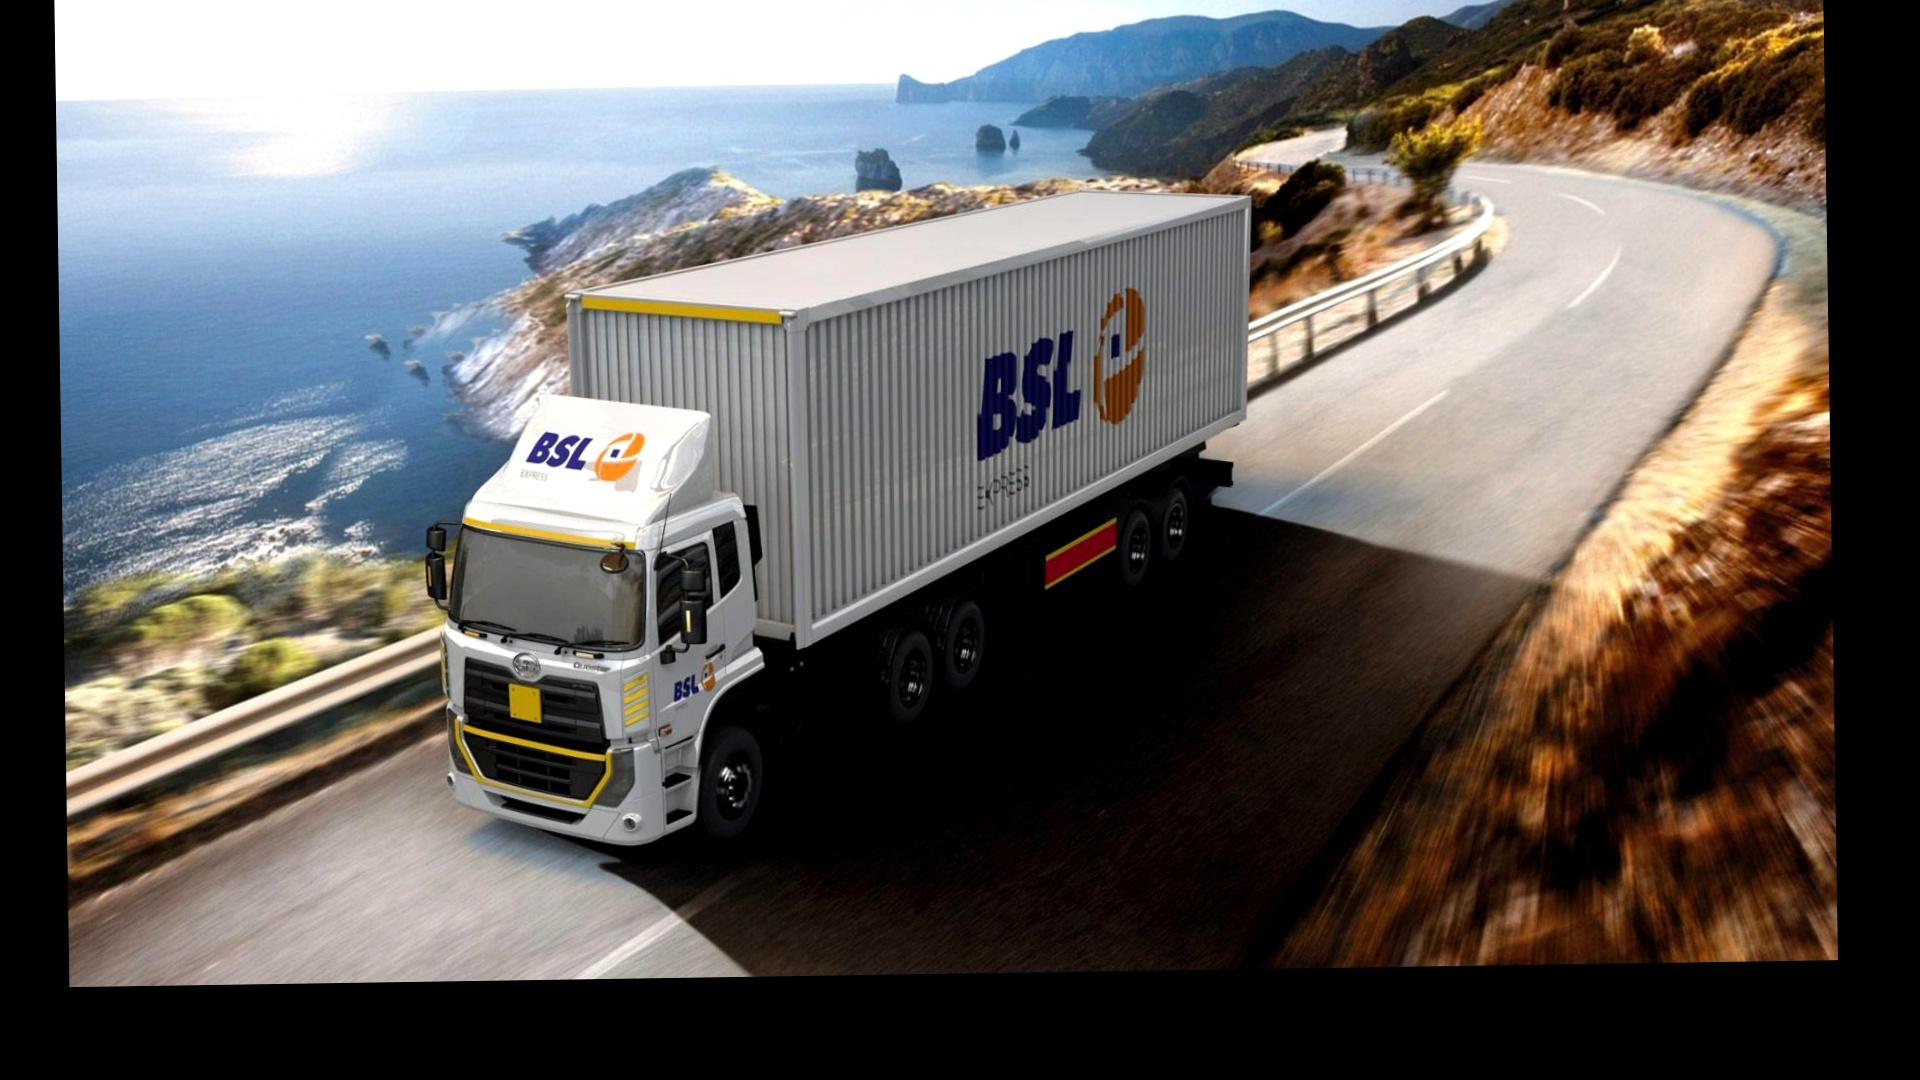truck: (435, 191, 1263, 860)
